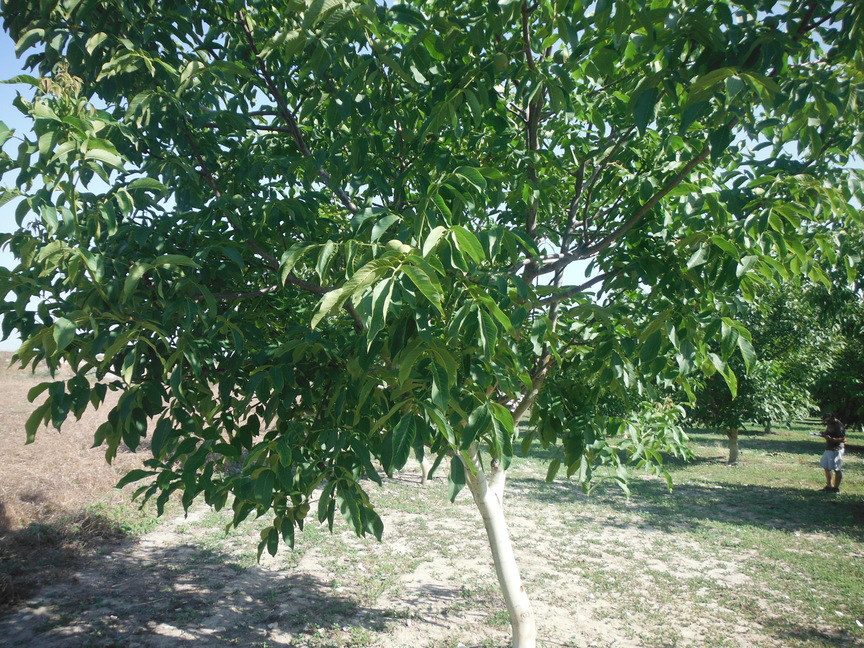walnut: (370, 34, 392, 57), (491, 48, 511, 73), (825, 41, 845, 64), (398, 124, 417, 145), (551, 47, 572, 66), (445, 333, 463, 351), (229, 191, 248, 208), (663, 238, 679, 257), (384, 237, 403, 252), (303, 401, 318, 419), (292, 401, 306, 419), (395, 242, 412, 256), (295, 507, 308, 524), (300, 500, 312, 514), (481, 263, 491, 274)
